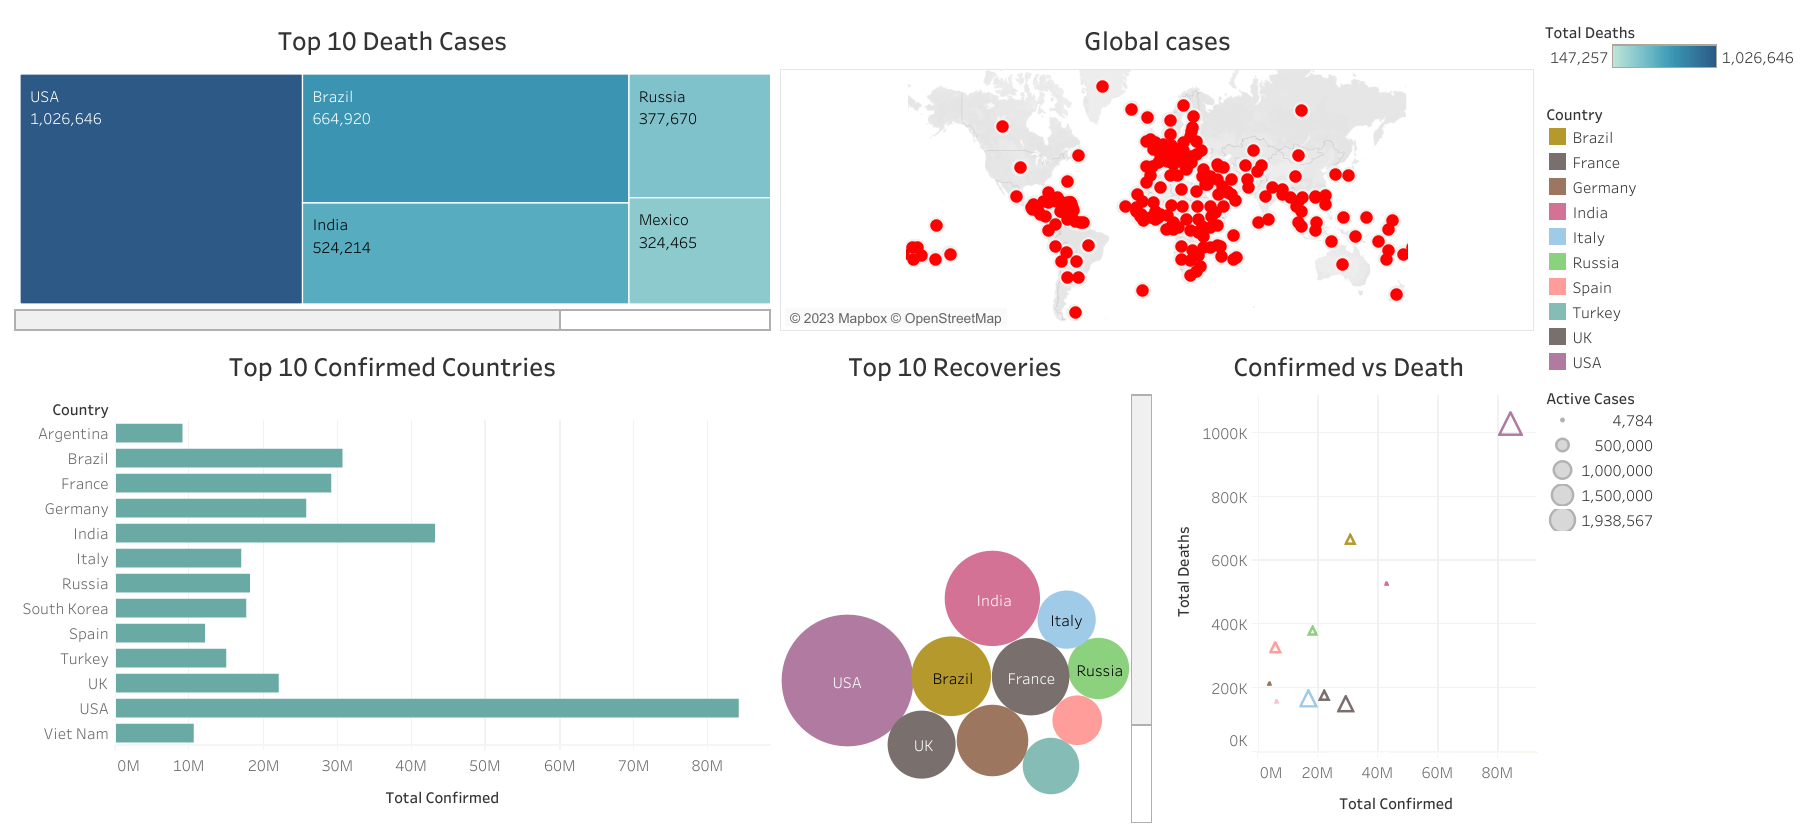

What the dashboard file says about the page in this screenshot:
{"tool":"tableau","page":{"name":"Dashboard 1","canvas":[1000,1000],"units":"permille","ordinal":0},"visuals":[{"type":"worksheet","title":"Top 10 Death Cases","mark":"Automatic","box":[4.8,8.8,431.2,392.4]},{"type":"worksheet","title":"Global Cases","mark":"Automatic","box":[436,8.8,431.2,392.4]},{"type":"legend","title":"Top 10 Death Cases","param":"[federated.17raxds131klj81866b7k0i5upja].[sum:total_deaths:qk]","box":[867.2,8.8,127.9,80.1]},{"type":"legend","title":"Top 10 Recoveries","param":"[federated.17raxds131klj81866b7k0i5upja].[none:country:nk]","box":[867.2,88.9,127.9,263.4]},{"type":"legend","title":"Total confirmed vs Total Death","param":"[federated.17raxds131klj81866b7k0i5upja].[sum:active_cases:qk]","box":[867.2,352.4,127.9,151.5]},{"type":"worksheet","title":"Top 10 confirmed countries","mark":"Automatic","rows":["country"],"cols":["total_confirmed"],"box":[4.8,401.2,431.2,590]},{"type":"worksheet","title":"Top 10 Recoveries","mark":"Circle","box":[436,401.2,215.6,590]},{"type":"worksheet","title":"Total confirmed vs Total Death","mark":"Automatic","rows":["total_deaths"],"cols":["total_confirmed"],"box":[651.6,401.2,215.6,590]}]}

Visuals, with their boxes on the dashboard's canvas, which has no fixed pixel size, in thousandths of its width and height (x1, y1, x2, y2). These are canvas units, not pixel positions in the 1814x836 screenshot, which may show the page scaled, cropped or inside an application window:
"Top 10 Death Cases" worksheet: crop(5, 9, 436, 401)
"Global Cases" worksheet: crop(436, 9, 867, 401)
"Top 10 Death Cases" legend: crop(867, 9, 995, 89)
"Top 10 Recoveries" legend: crop(867, 89, 995, 352)
"Total confirmed vs Total Death" legend: crop(867, 352, 995, 504)
"Top 10 confirmed countries" worksheet: crop(5, 401, 436, 991)
"Top 10 Recoveries" worksheet (Circle marks): crop(436, 401, 652, 991)
"Total confirmed vs Total Death" worksheet: crop(652, 401, 867, 991)
